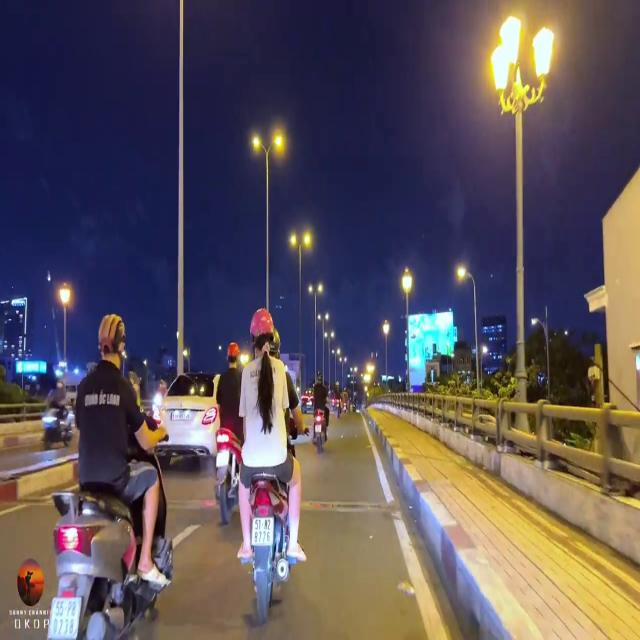bien_trang: (49, 596, 80, 640), (252, 506, 274, 548)
